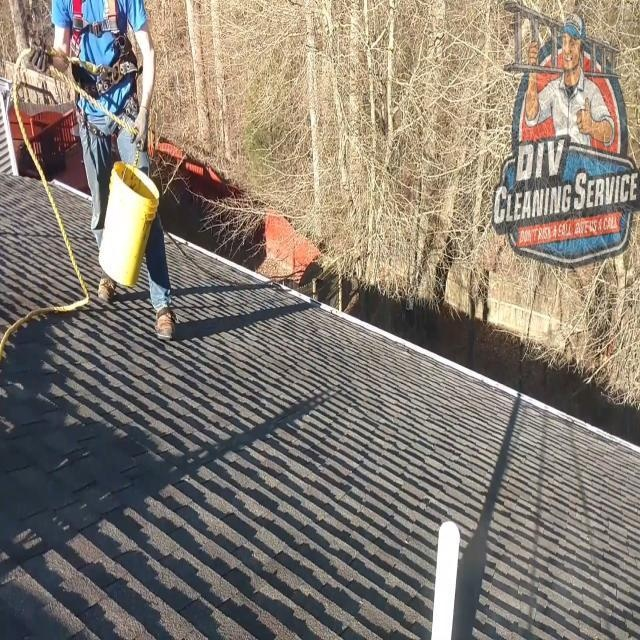Arnes_seguridad: (65, 0, 139, 145)
